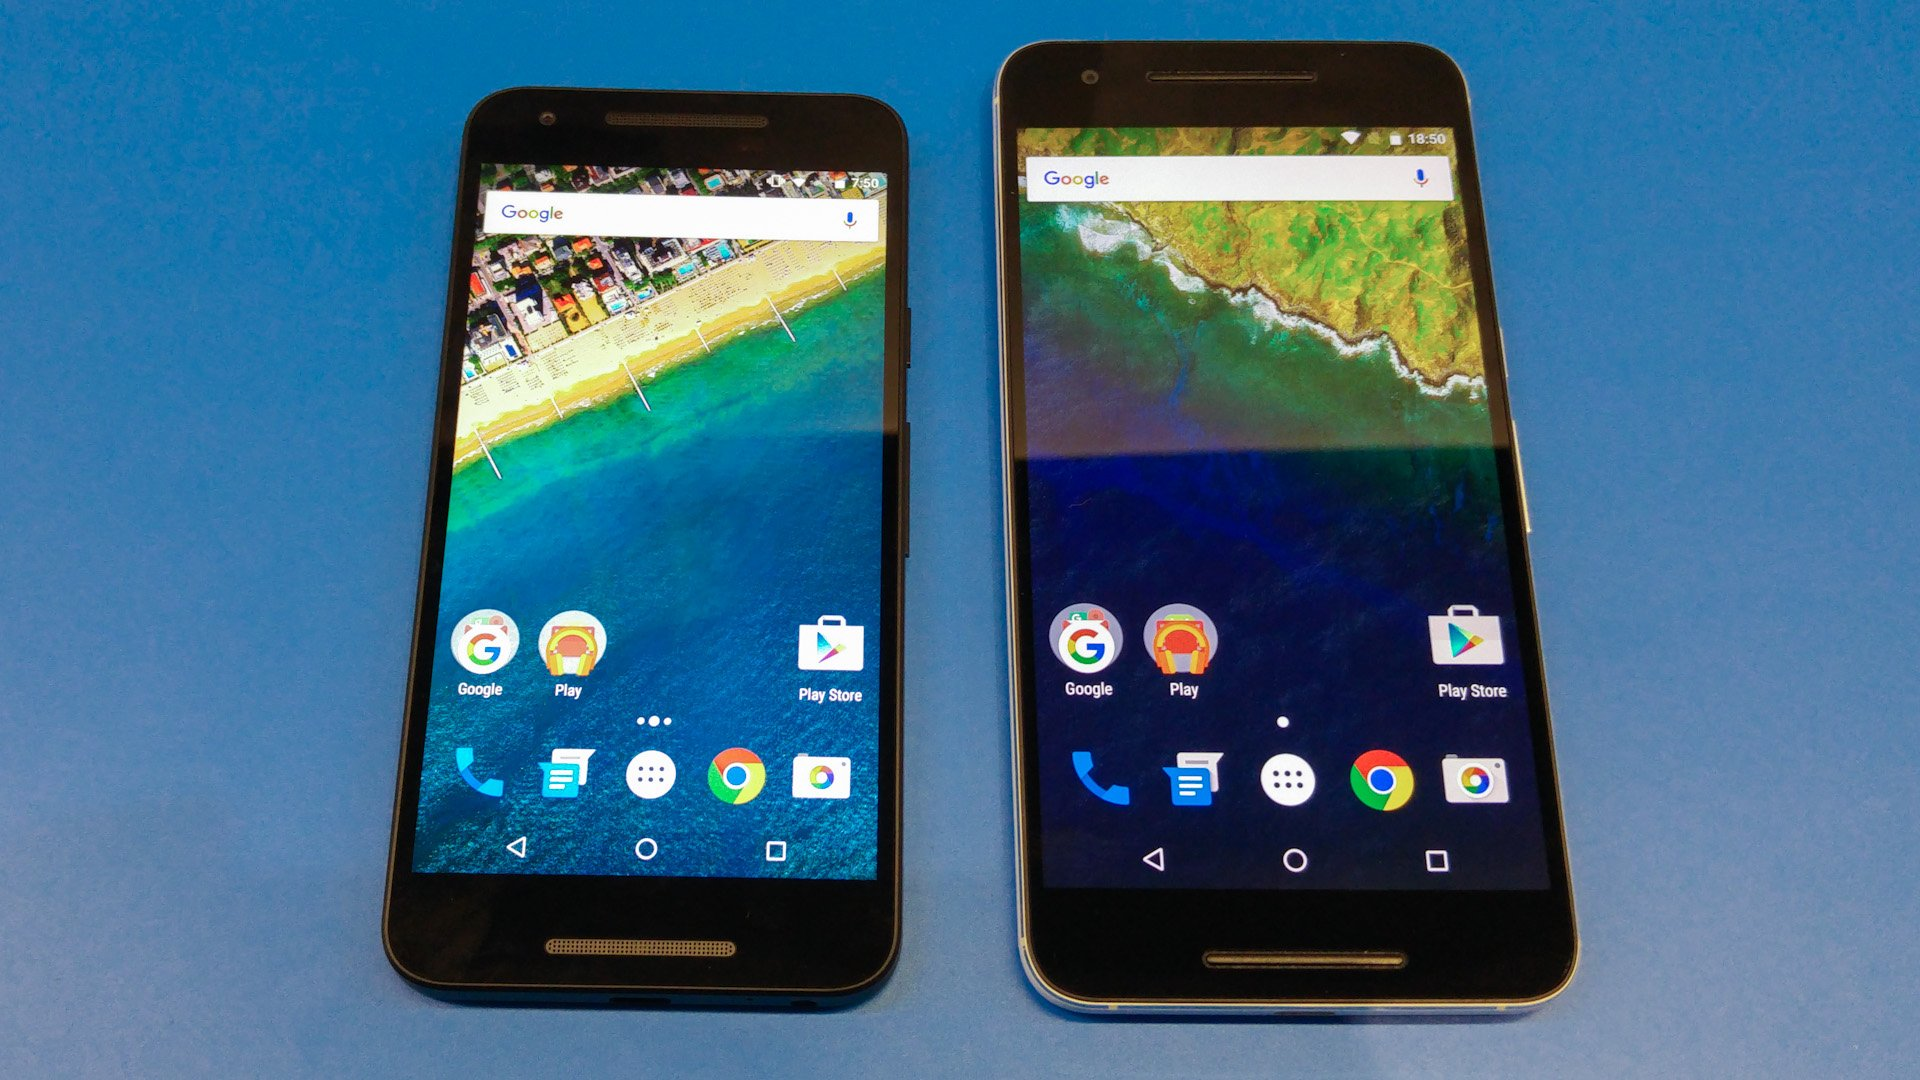smartphone: (989, 37, 1582, 1025), (380, 83, 913, 1015)
